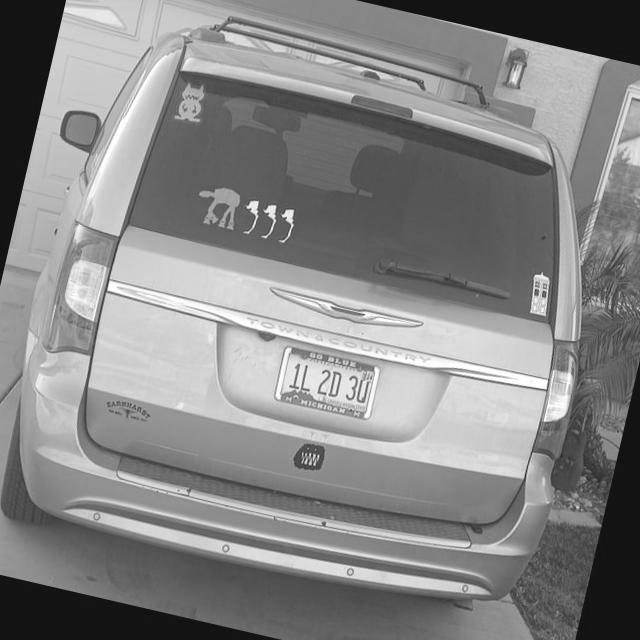LicensePlate: (273, 345, 381, 420)
